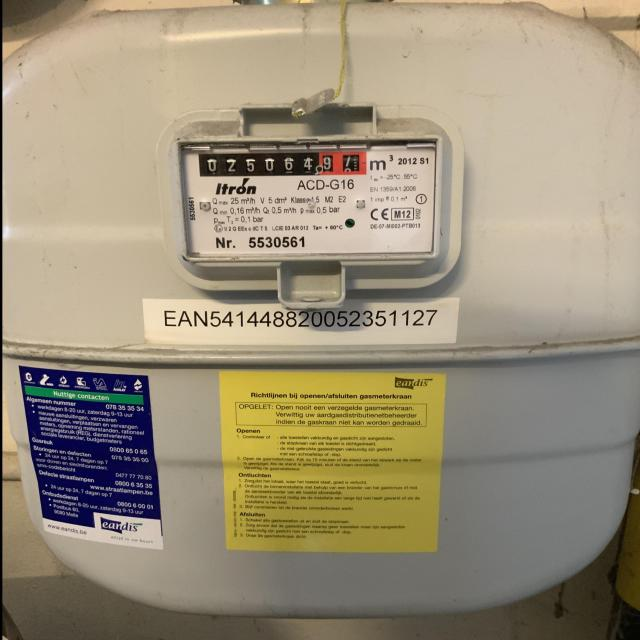gaz_meter: (177, 147, 440, 260)
indication: (199, 152, 367, 177)
